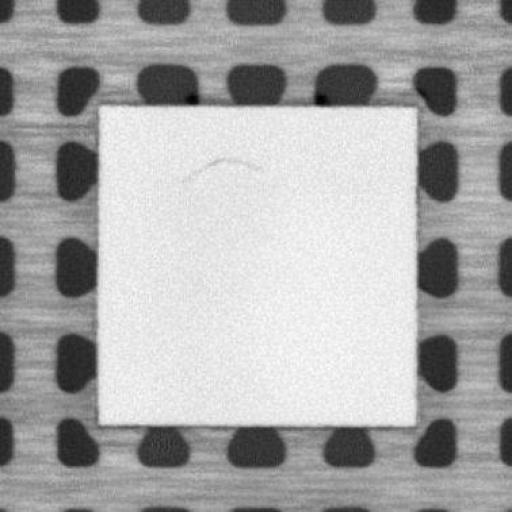DIE_CRACK: (183, 154, 261, 178)
